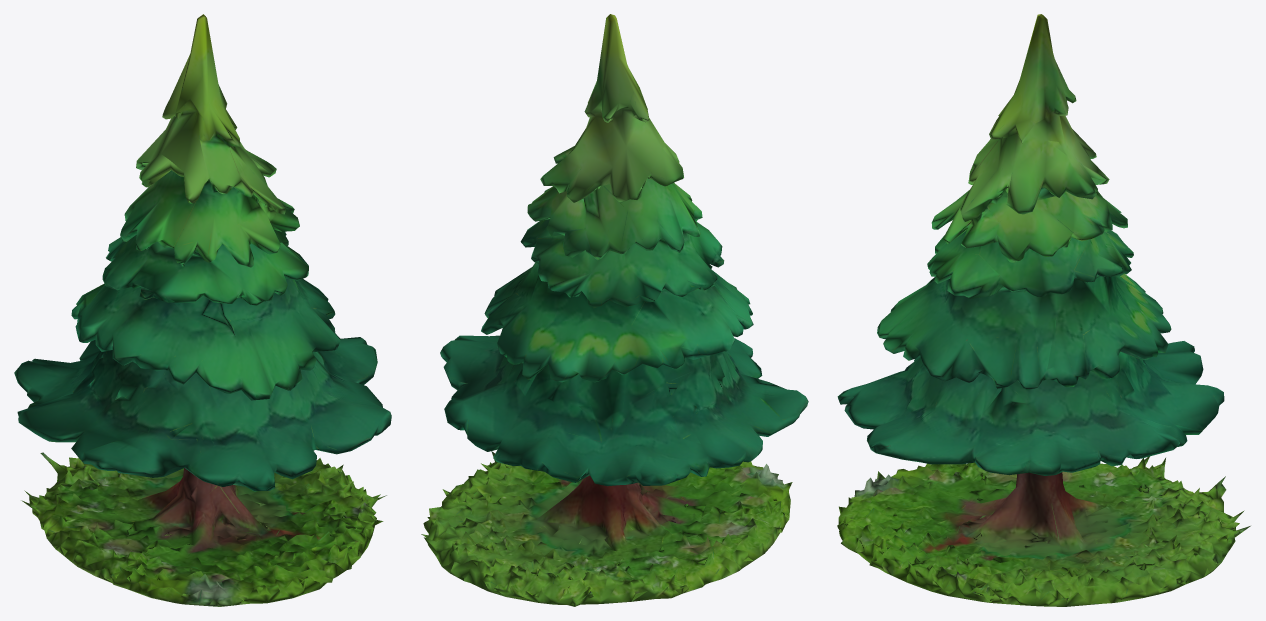
File: treeB03.fbx
3 views of the same model, side by side, from view 1: azimuth 30°, elevation 25°; view 2: azimuth 150°, elevation 25°; view 3: azimuth 270°, elevation 25° (orthographic). The views are drawn at different scales.
Parts seen in each view (by area): view 1: treeB03; view 2: treeB03; view 3: treeB03.
Part boxes in pixels (left/top/right/bottom): treeB03: left=14, top=14, right=391, bottom=606; treeB03: left=421, top=14, right=808, bottom=606; treeB03: left=837, top=14, right=1250, bottom=606.
Size of the model in its own units: 82.93 by 124 by 89.34.
1 material, 1 textured.
